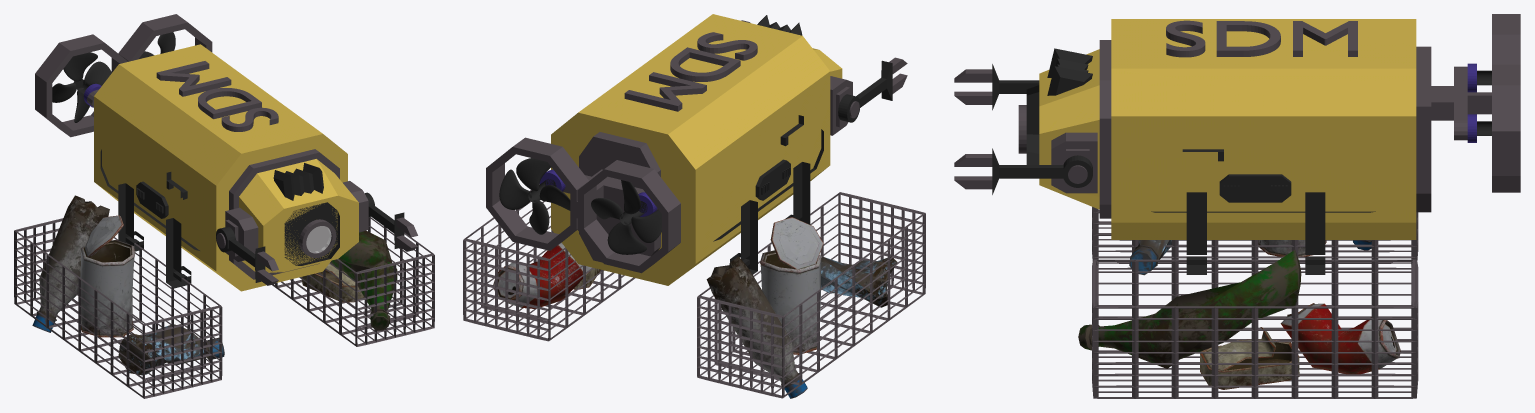
Rendered from collector_with_both.glb.
The picture shows the model from 3 angles, left to right: view 1: azimuth 30°, elevation 25°; view 2: azimuth 150°, elevation 25°; view 3: azimuth 270°, elevation 25°; orthographic projection. The views are drawn at different scales.
Visible parts, largest first — view 1: main_body, Plastic_Bottle_01_GEO, Can_02_GEO, camera_lens; view 2: main_body, Can_02_GEO, Plastic_Bottle_01_GEO; view 3: main_body, Plastic_Bottle_01_GEO, Can_02_GEO.
Part boxes in pixels (<box>): main_body: <box>14,14,434,398</box>; Plastic_Bottle_01_GEO: <box>32,195,397,375</box>; Can_02_GEO: <box>80,215,363,337</box>; camera_lens: <box>306,226,331,253</box>; main_body: <box>463,14,925,398</box>; Can_02_GEO: <box>493,217,823,354</box>; Plastic_Bottle_01_GEO: <box>706,256,897,398</box>; main_body: <box>954,14,1520,398</box>; Plastic_Bottle_01_GEO: <box>1078,240,1371,368</box>; Can_02_GEO: <box>1200,240,1400,389</box>.
Size of the model in its own units: 4.09 by 3.17 by 5.53.
4 materials, 4 textured.
